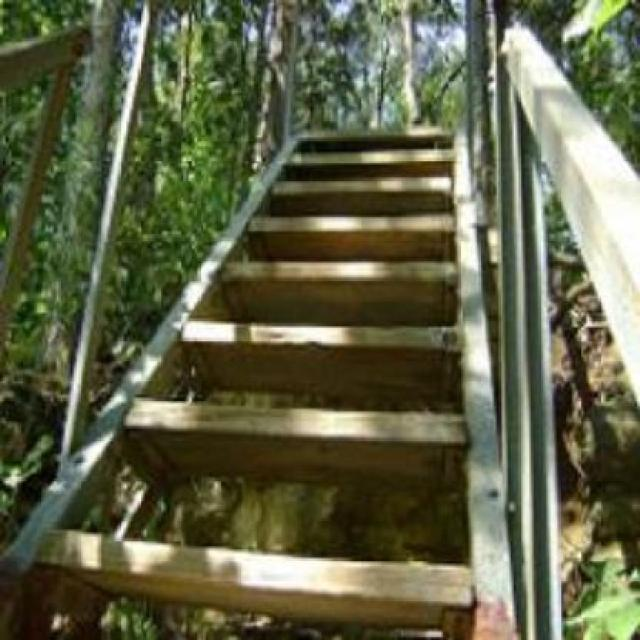stair: (33, 109, 492, 640)
